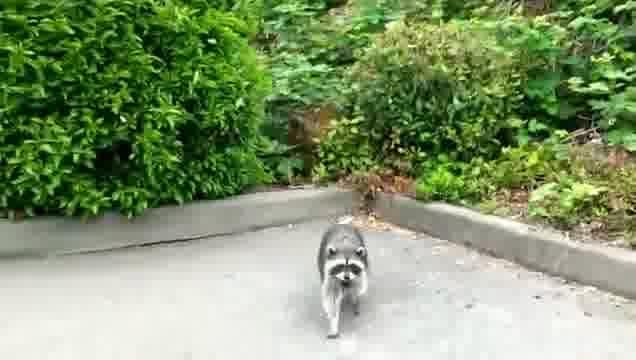raccoon: (315, 218, 371, 341)
